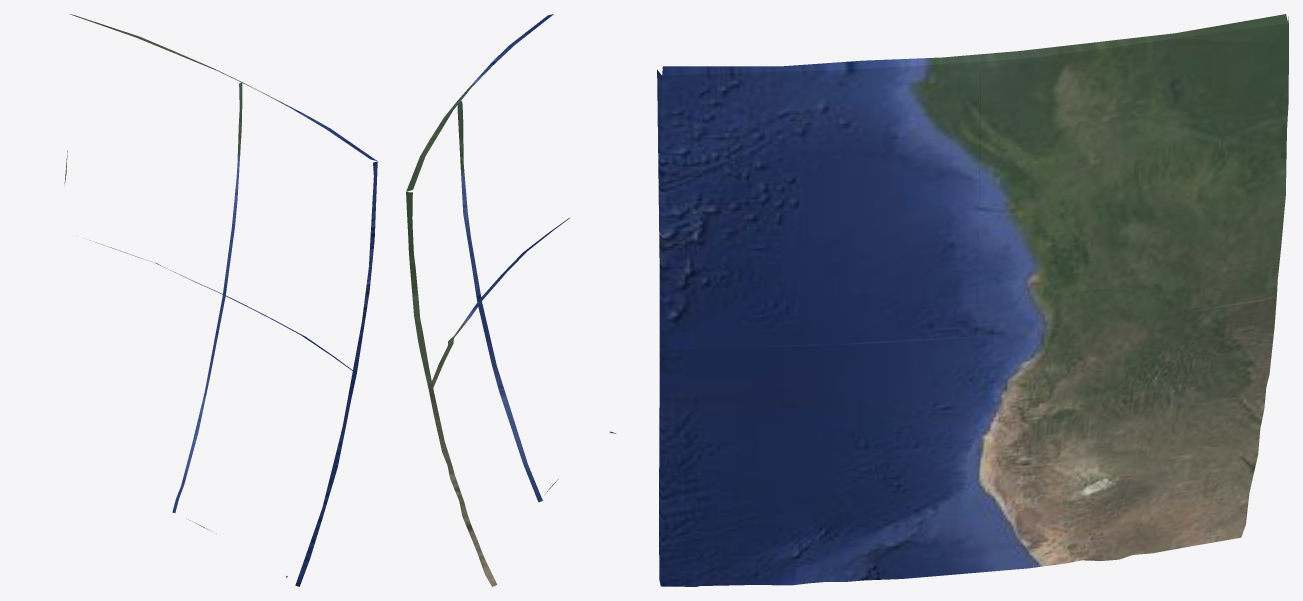
3 renders of one model, left to right at view 1: azimuth 30°, elevation 25°; view 2: azimuth 150°, elevation 25°; view 3: azimuth 270°, elevation 25°, orthographic. The views are drawn at different scales.
Size of the model in its own units: 973587 by 2458781 by 2467898.
Materials: 1 (1 with a texture image).
